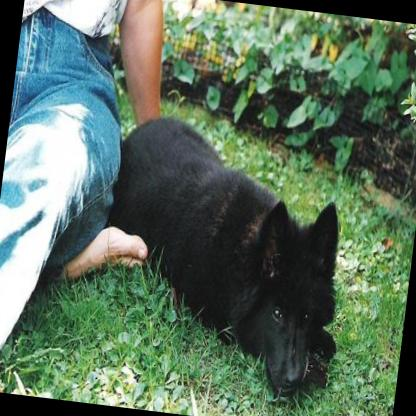groenendael: (89, 106, 361, 406)
